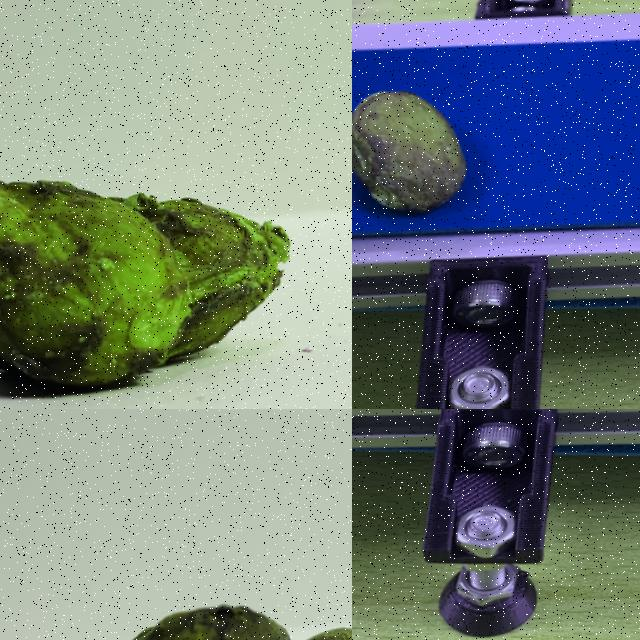Agglomerated_cocoabeans: (0, 114, 351, 408), (10, 577, 351, 639)
Fine_cocoabeans: (352, 71, 547, 261)
